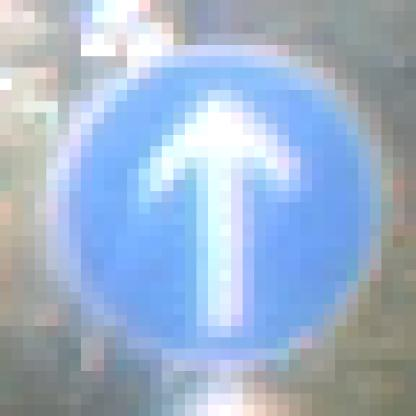AheadOnly: (71, 57, 360, 350)
